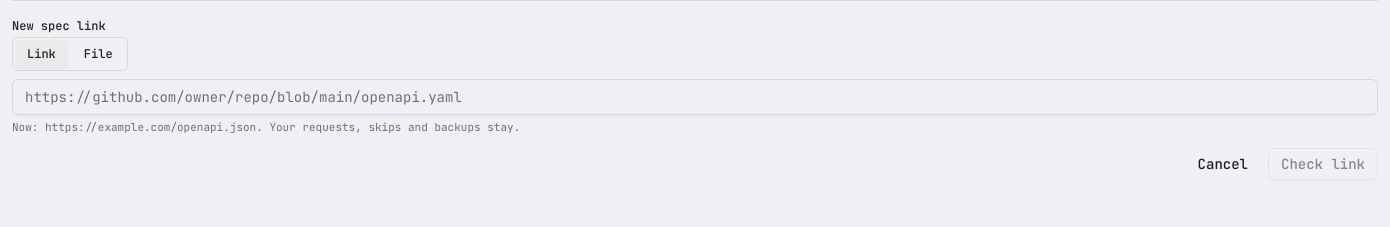
ChangeLinkForm › a_collection_without_connected_endpoints_gets_a_plain_message
This screenshot has width=1390, height=227.
Type "https://example.com/other.json" into the field named "New spec link". click: (695, 97)
box: [12, 79, 1378, 115]
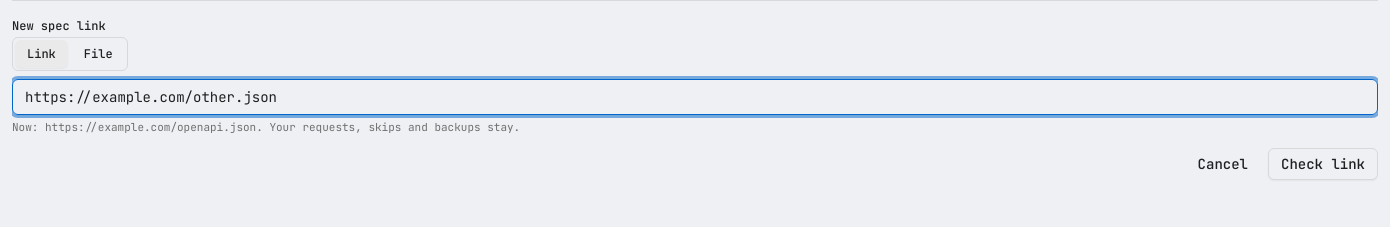
Click the button "Check link". click: (1323, 164)
box: [1268, 148, 1378, 180]
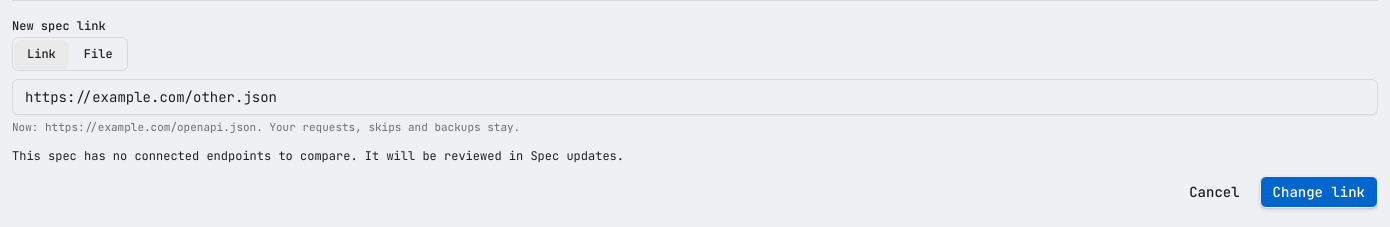
Check: the text "This spec has no connected endpoints to compare. It will be reviewed in Spec updates." is shown, box [12, 148, 624, 164]
